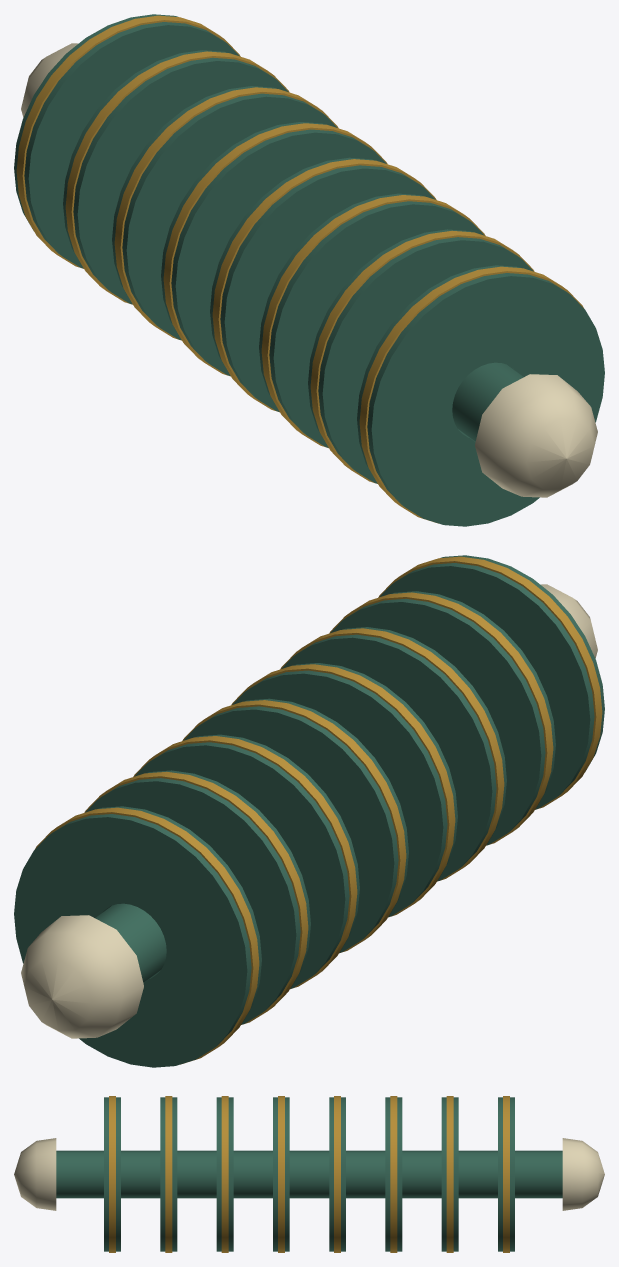
File: hefe_emitter.obj
3 views of the same model, one above another, from view 1: azimuth 30°, elevation 25°; view 2: azimuth 150°, elevation 25°; view 3: azimuth 270°, elevation 25° (orthographic). The views are drawn at different scales.
Visible parts, largest first — view 1: hefe_emitter; view 2: hefe_emitter; view 3: hefe_emitter.
Part boxes in pixels (x1,y1,x2,y2): hefe_emitter: (14, 14, 604, 526); hefe_emitter: (14, 555, 604, 1067); hefe_emitter: (14, 1096, 604, 1252).
Bounding box in the file's own units: 1.12 × 1.12 × 4.2.
